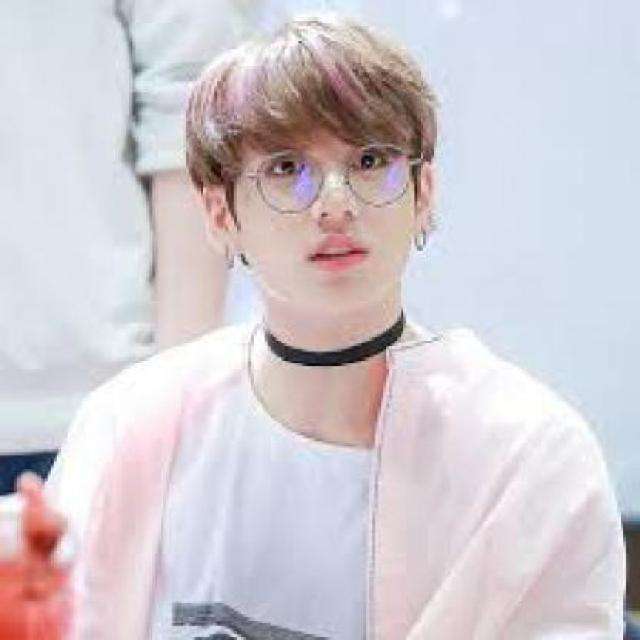glasses: (242, 138, 428, 216)
